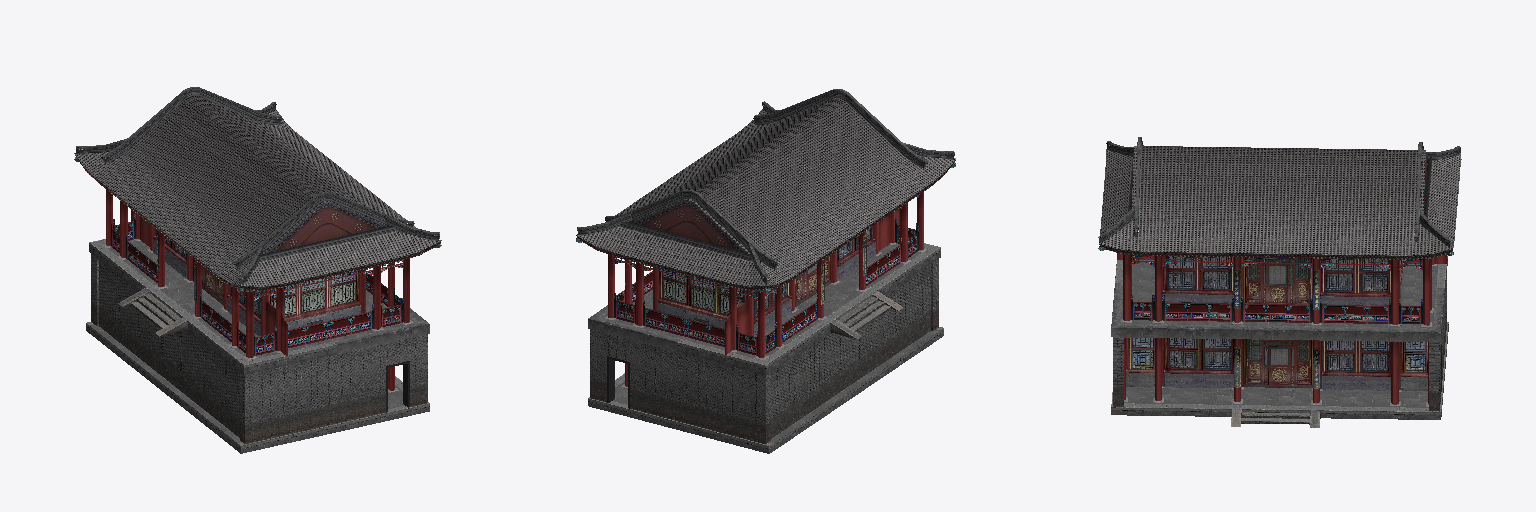
3 renders of one model, left to right at view 1: azimuth 30°, elevation 25°; view 2: azimuth 150°, elevation 25°; view 3: azimuth 270°, elevation 25°, orthographic.
Visible parts, largest first — view 1: polySurface90; view 2: polySurface90; view 3: polySurface90.
Part boxes in pixels (left/top/right/bottom): polySurface90: left=74, top=87, right=441, bottom=453; polySurface90: left=576, top=89, right=955, bottom=453; polySurface90: left=1098, top=137, right=1461, bottom=427.
Size of the model in its own units: 10.99 by 10.42 by 14.87.
Materials: 17 (17 with a texture image).